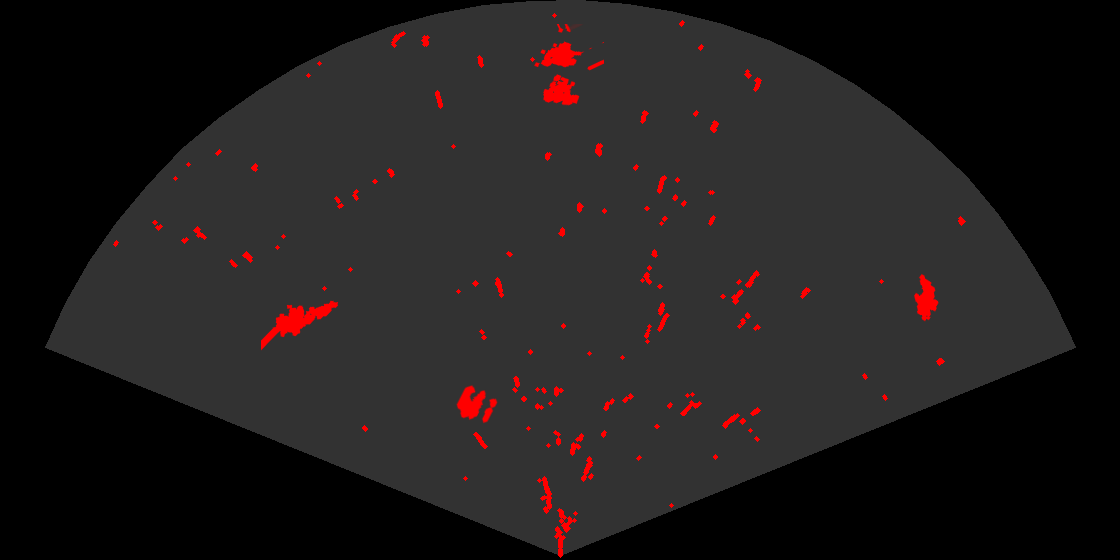AUV: (913, 273, 940, 323)
ball: (455, 384, 499, 425)
cage: (533, 24, 604, 107)
frogman: (261, 299, 340, 352)
